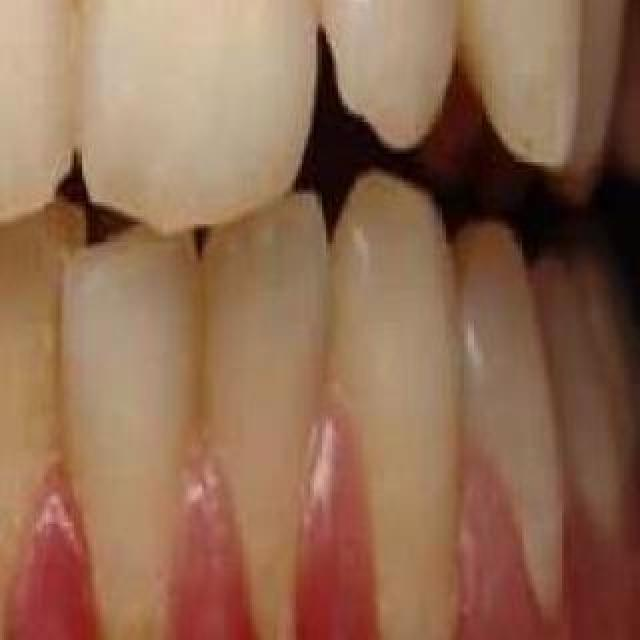maligned: (61, 219, 221, 637), (0, 172, 88, 622), (312, 0, 476, 184)
plaque: (0, 296, 64, 638)
